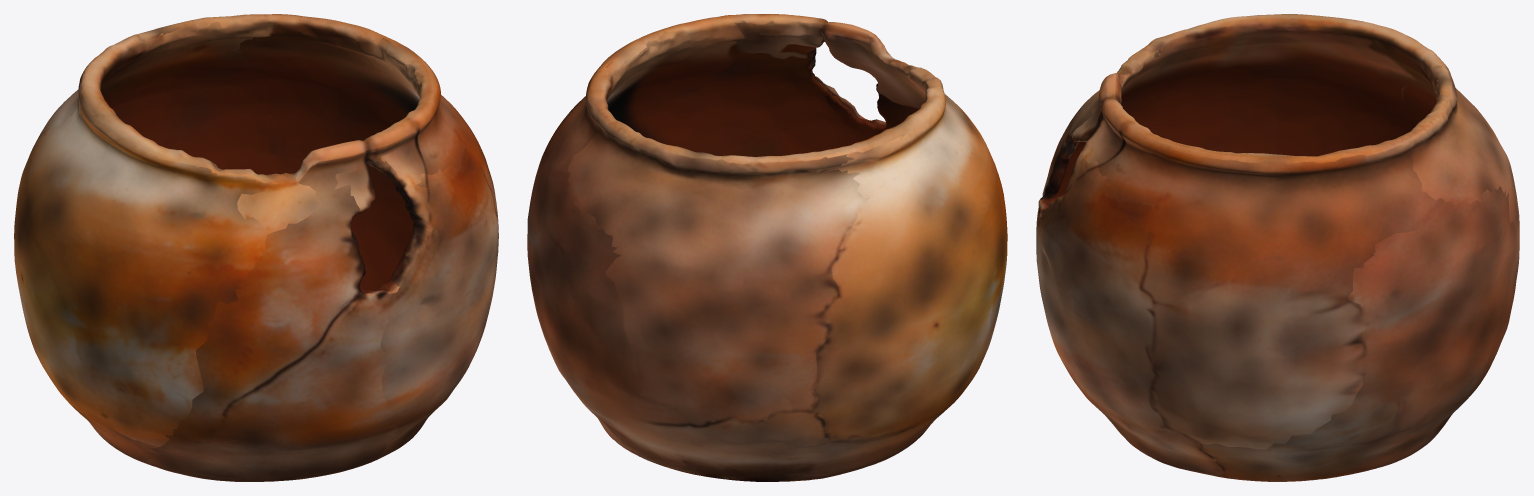
Rendered from ConcreteOrangePottery.fbx.
The picture shows the model from 3 angles, left to right: view 1: azimuth 30°, elevation 25°; view 2: azimuth 150°, elevation 25°; view 3: azimuth 270°, elevation 25°; orthographic projection.
Visible parts, largest first — view 1: Jar Mesh; view 2: Jar Mesh; view 3: Jar Mesh.
Boxes of the visible parts, bbox=[...] form: Jar Mesh: bbox=[14, 14, 498, 481]; Jar Mesh: bbox=[527, 14, 1007, 481]; Jar Mesh: bbox=[1036, 14, 1519, 481].
Bounding box in the file's own units: 22.7 × 17.05 × 22.7.
